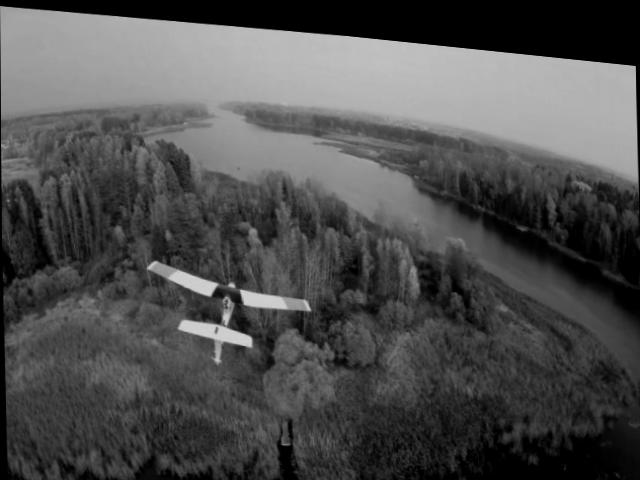hedef: (144, 246, 305, 367)
